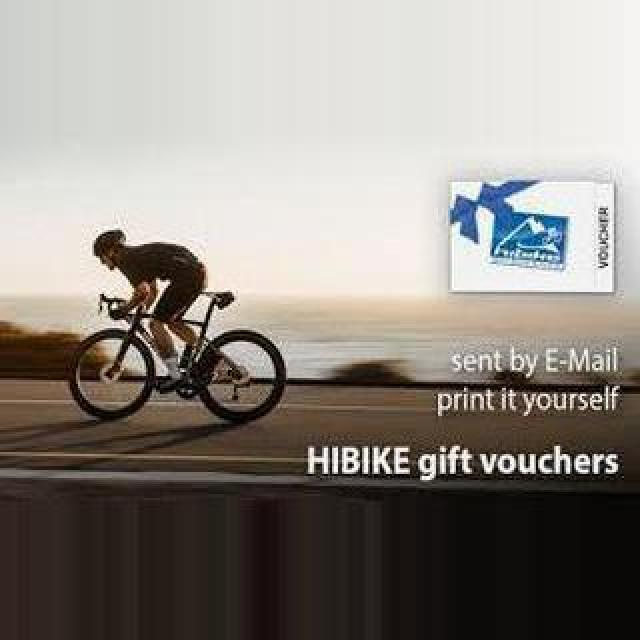MC-Bike: (92, 230, 210, 376)
Person: (72, 286, 286, 424)
